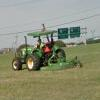Tractor: (6, 21, 71, 72)
